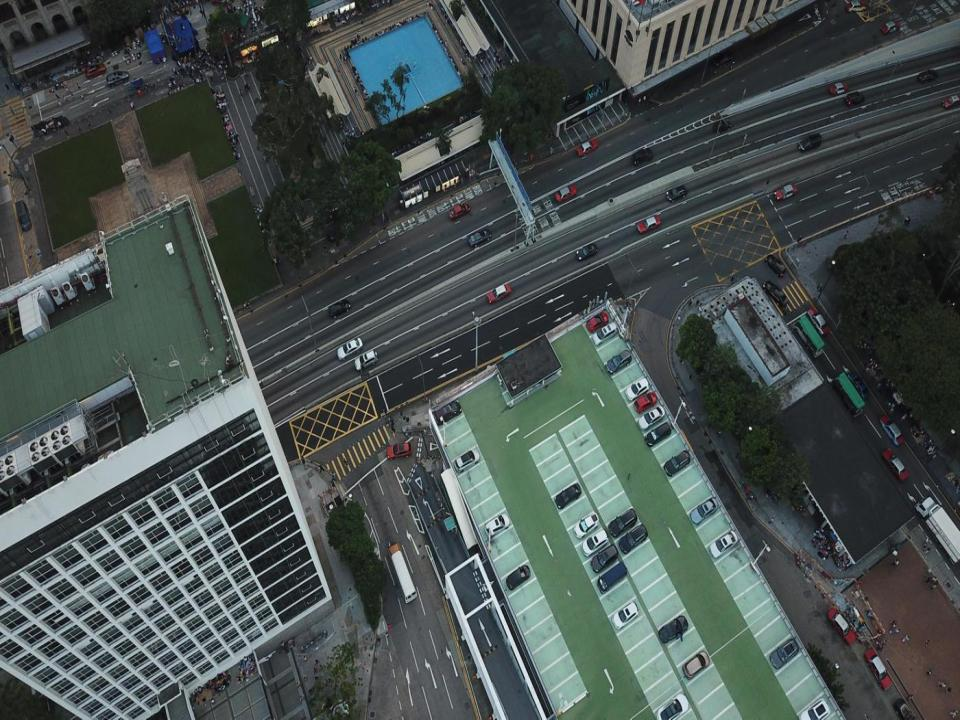bus: (387, 543, 417, 604), (832, 372, 866, 417), (794, 316, 824, 358)
car: (827, 607, 857, 646), (618, 524, 648, 554), (770, 640, 800, 670), (608, 507, 637, 537), (656, 693, 689, 719), (883, 448, 909, 481), (879, 413, 905, 446), (682, 650, 709, 680), (658, 616, 688, 643), (690, 497, 718, 525), (590, 545, 618, 572), (581, 529, 609, 556), (554, 482, 581, 510), (663, 450, 691, 477), (604, 349, 632, 376), (710, 531, 738, 558), (612, 601, 638, 630), (865, 649, 883, 687), (505, 565, 531, 591), (574, 513, 600, 539), (798, 698, 830, 719), (763, 281, 788, 307), (336, 336, 363, 360), (638, 406, 665, 430), (435, 401, 461, 425), (846, 372, 869, 399), (626, 377, 650, 401), (486, 282, 512, 304), (484, 514, 510, 536), (806, 308, 828, 334), (455, 449, 479, 472), (765, 254, 787, 278), (634, 392, 657, 413), (354, 350, 378, 370), (586, 312, 609, 332), (387, 442, 412, 460), (328, 299, 350, 319), (631, 147, 653, 167), (894, 699, 916, 719), (637, 216, 661, 234), (576, 242, 598, 261), (468, 228, 491, 246), (575, 138, 598, 155), (774, 184, 798, 200), (448, 203, 470, 220), (107, 70, 128, 87), (555, 185, 576, 202), (85, 64, 105, 80), (666, 185, 686, 201), (713, 50, 734, 65), (845, 92, 865, 107), (880, 20, 900, 35), (918, 70, 939, 84), (712, 119, 732, 132), (828, 82, 848, 95), (942, 95, 960, 109), (846, 1, 865, 13)
truck: (914, 495, 960, 562)
van: (596, 562, 627, 594), (644, 421, 671, 447), (592, 322, 618, 346), (15, 200, 32, 232), (798, 132, 822, 151)
